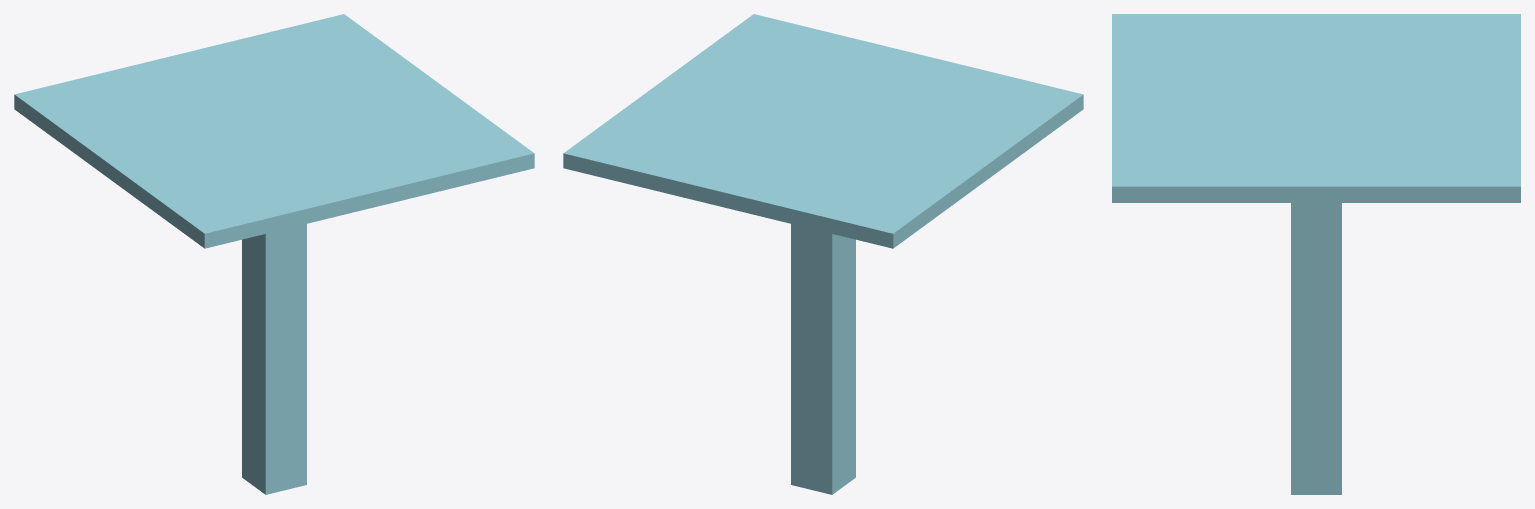
File: elevator.glb
3 renders of one model, left to right at view 1: azimuth 30°, elevation 25°; view 2: azimuth 150°, elevation 25°; view 3: azimuth 270°, elevation 25°, orthographic. The views are drawn at different scales.
Visible parts, largest first — view 1: Cube.001; view 2: Cube.001; view 3: Cube.001.
Boxes of the visible parts, box(x1,y1,x2,y2) form: Cube.001: box(14, 14, 534, 494); Cube.001: box(563, 14, 1083, 494); Cube.001: box(1112, 14, 1520, 494).
Size of the model in its own units: 4 by 4.14 by 4.
